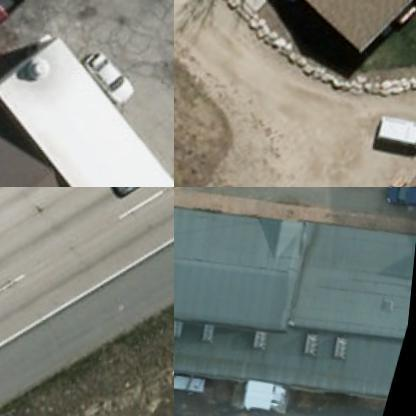car: (75, 46, 143, 104), (382, 110, 415, 151), (106, 187, 173, 207), (385, 187, 415, 213)
pickup: (0, 0, 32, 61)
